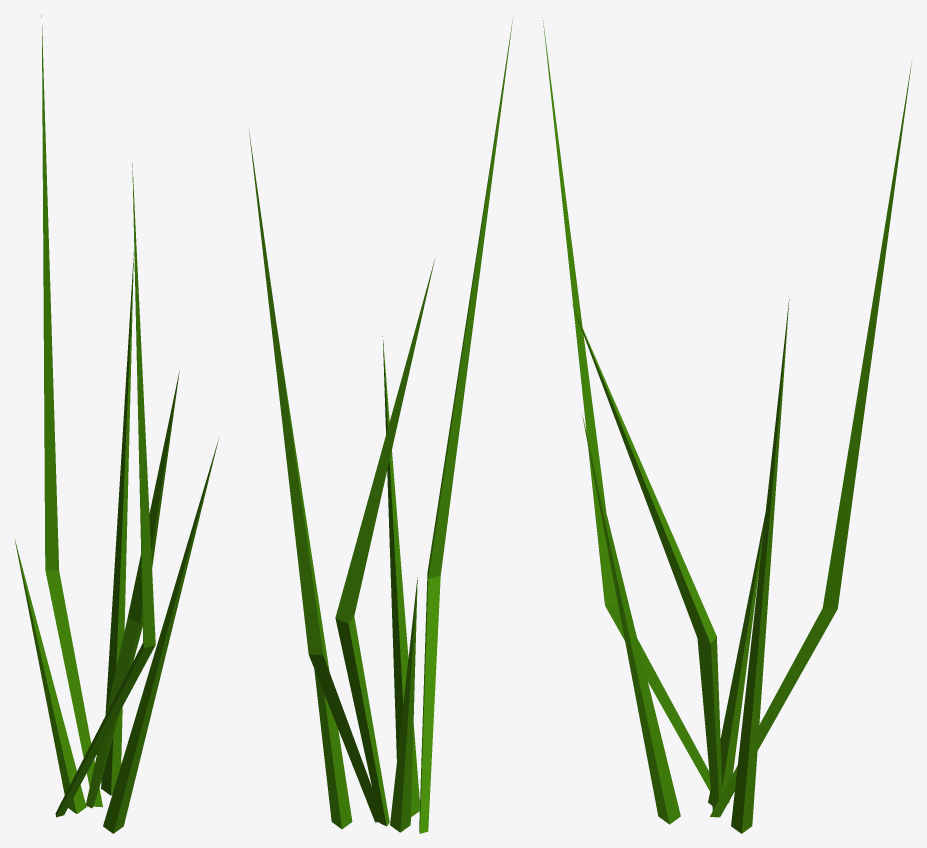
File: Grass_7.fbx
The picture shows the model from 3 angles, left to right: view 1: azimuth 30°, elevation 25°; view 2: azimuth 150°, elevation 25°; view 3: azimuth 270°, elevation 25°; orthographic projection. The views are drawn at different scales.
Parts seen in each view (by area): view 1: Grass 7_LOD0; view 2: Grass 7_LOD0; view 3: Grass 7_LOD0.
Boxes of the visible parts, left/top/right/bottom form: Grass 7_LOD0: left=14, top=15, right=218, bottom=833; Grass 7_LOD0: left=248, top=16, right=513, bottom=833; Grass 7_LOD0: left=542, top=17, right=912, bottom=833.
Size of what is drawn, in the model's own units: 4.32 by 23.05 by 9.86.
